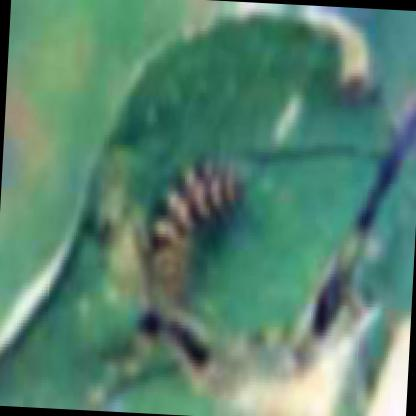Leaf Webber: (161, 0, 416, 416)
